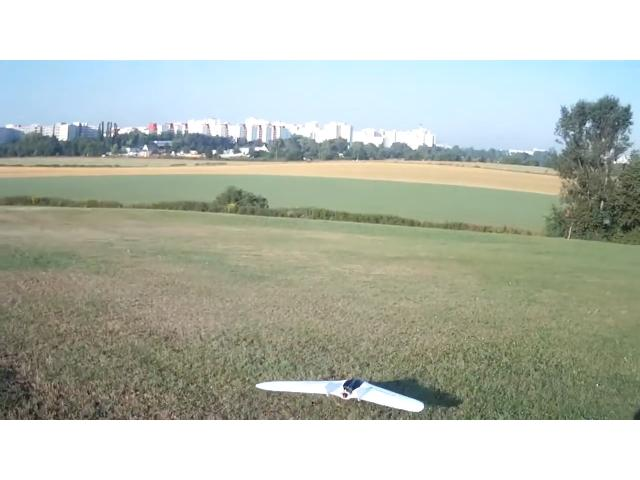Anti-Drone: (237, 368, 455, 421)
